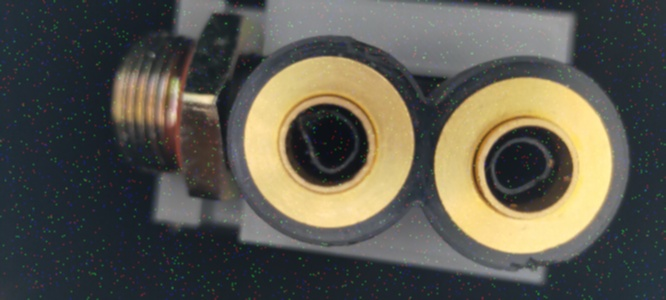bump: (338, 25, 398, 66), (499, 249, 574, 271)
off-centered: (479, 124, 568, 208), (288, 106, 363, 177)
